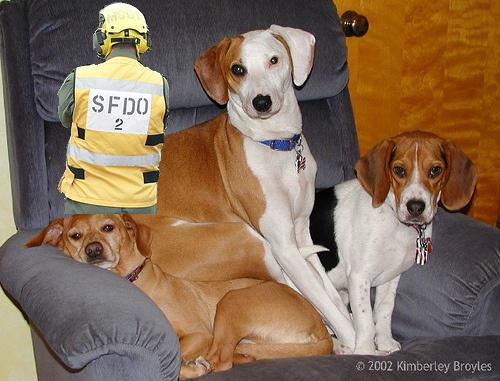tampered: (58, 3, 169, 214)
